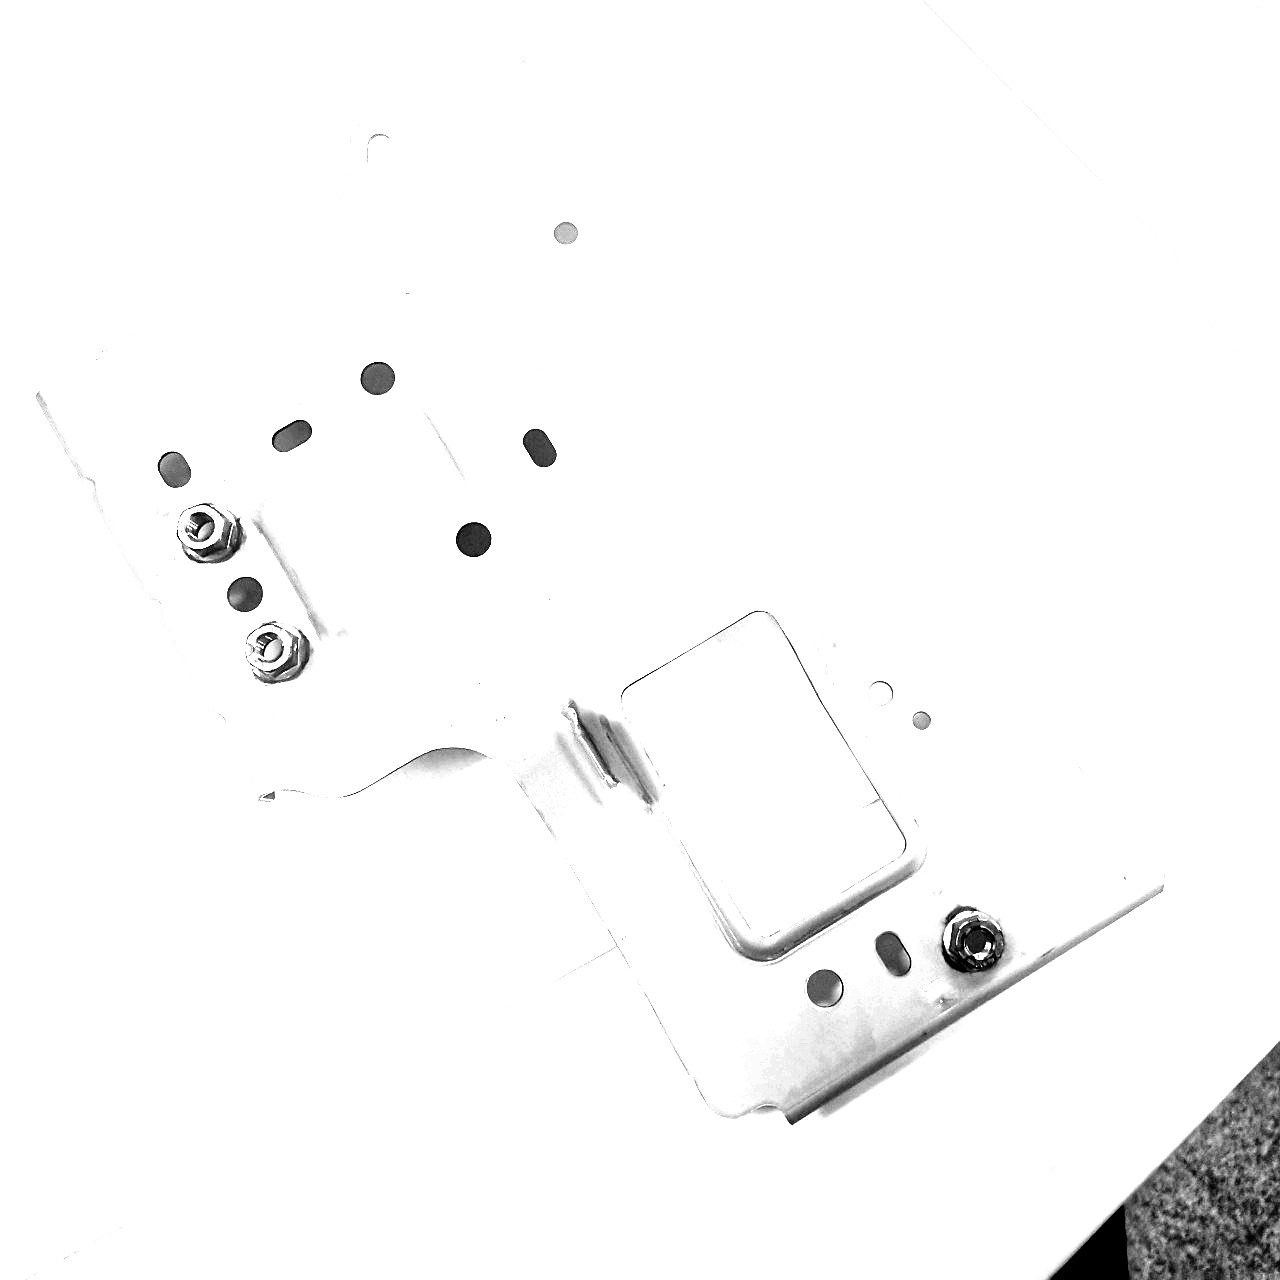dog: (937, 900, 1012, 980), (168, 501, 246, 566), (240, 617, 312, 688)
